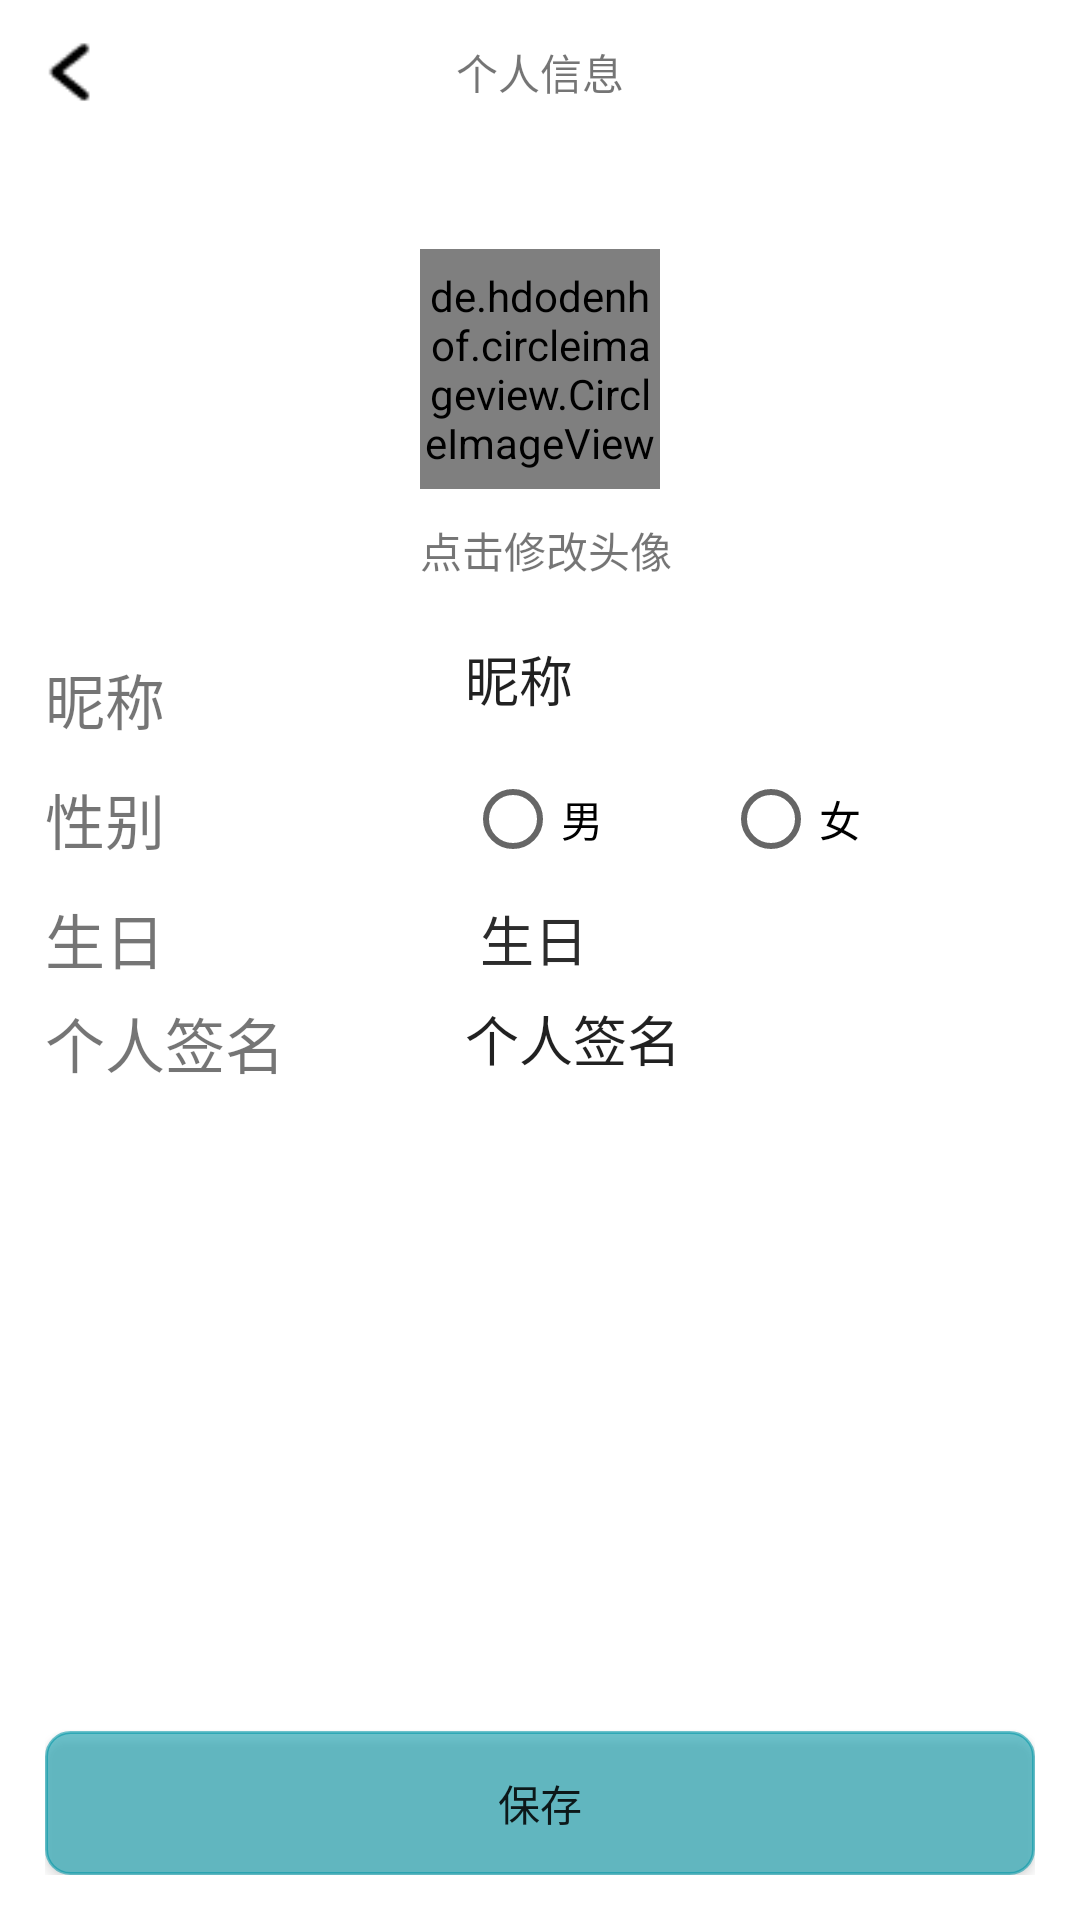

Locate icon controls on the screen. Image size 1080*1920, boxes as detection(x1, y1, x2, y2).
fanhui: detection(49, 43, 90, 101)
